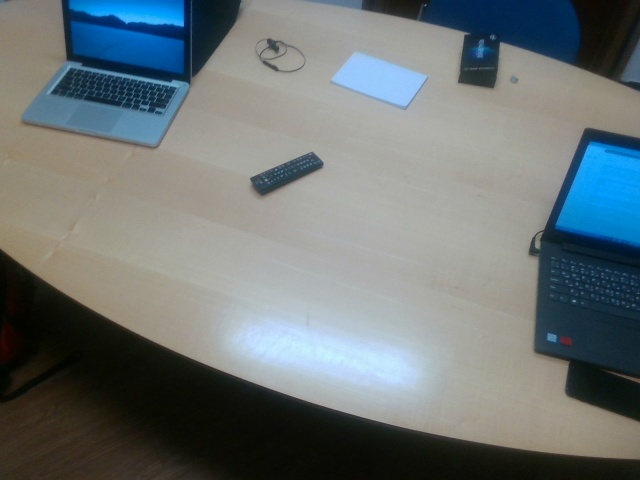remote: (251, 151, 326, 197)
